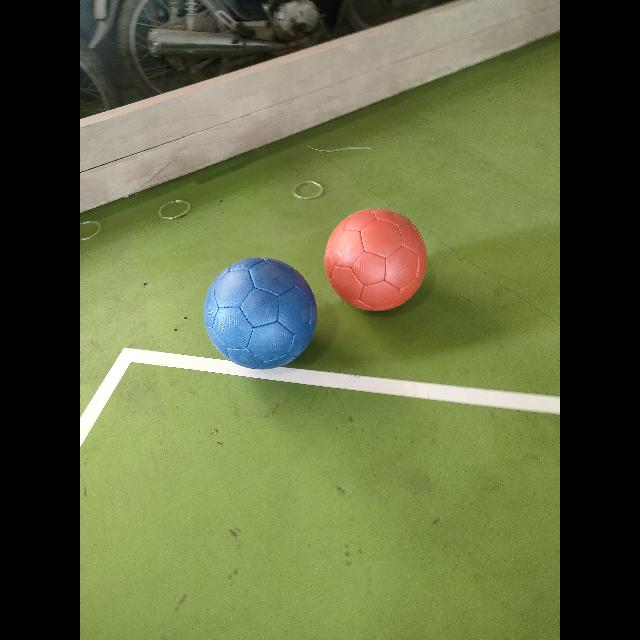B: (204, 258, 316, 368)
R: (325, 208, 427, 310)
